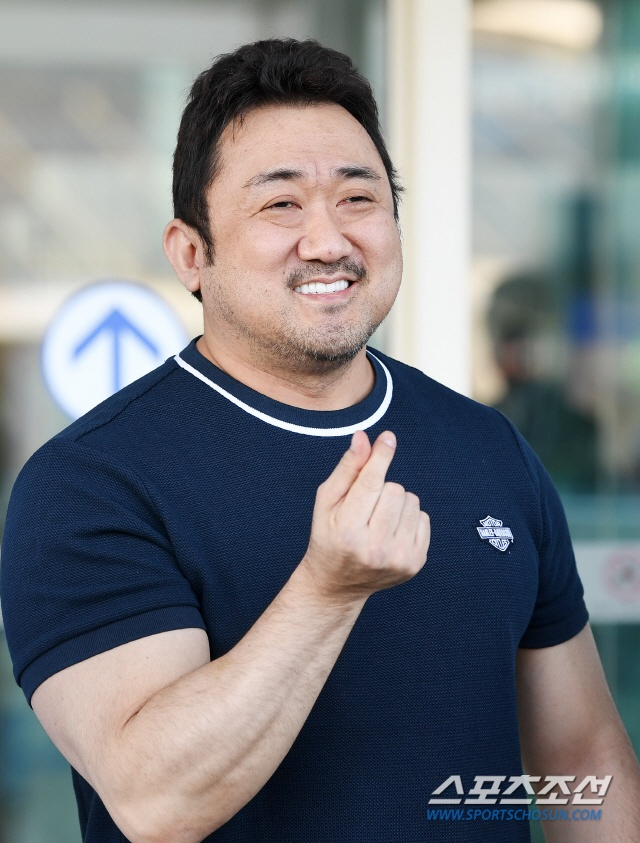oneheart: (292, 425, 469, 594)
